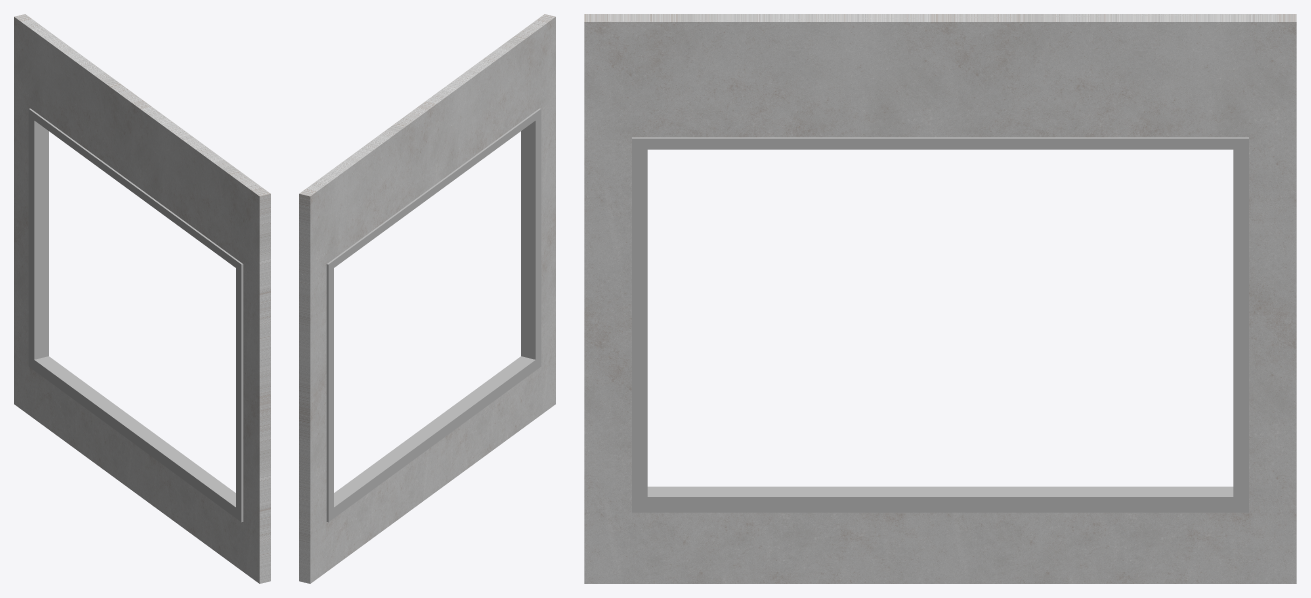
The model's file is SM_White_Red_Wall01K.fbx.
3 views of the same model, side by side, from view 1: azimuth 30°, elevation 25°; view 2: azimuth 150°, elevation 25°; view 3: azimuth 270°, elevation 25° (orthographic). The views are drawn at different scales.
Parts seen in each view (by area): view 1: SM_White_Red_Wall01K; view 2: SM_White_Red_Wall01K; view 3: SM_White_Red_Wall01K.
Boxes of the visible parts, <box> form: SM_White_Red_Wall01K: <box>14,14,270,583</box>; SM_White_Red_Wall01K: <box>299,14,555,583</box>; SM_White_Red_Wall01K: <box>584,14,1296,583</box>.
Size of the model in its own units: 8.99 by 260 by 226.
